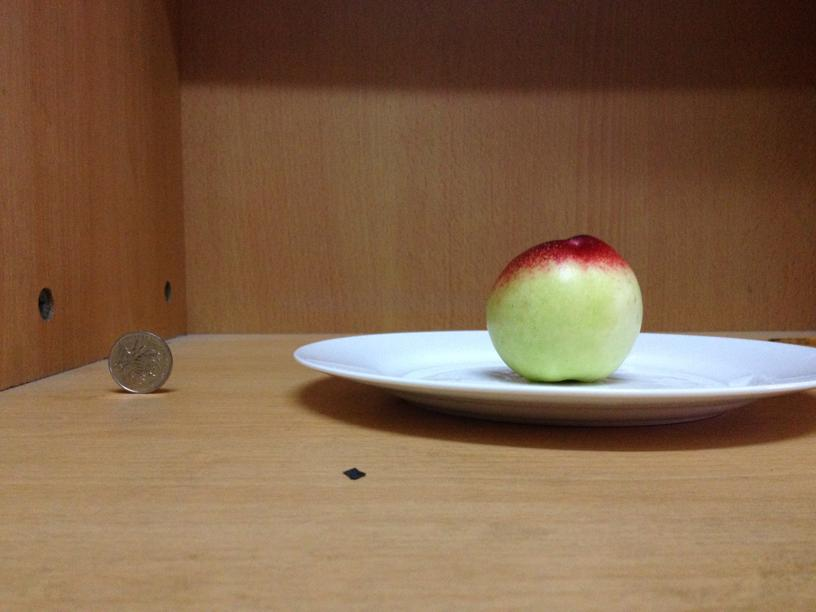coin: (107, 329, 175, 393)
peach: (486, 234, 641, 379)
